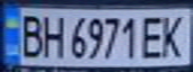1: (118, 13, 142, 60)
6: (66, 12, 87, 60)
7: (103, 13, 121, 60)
9: (84, 13, 106, 60)
B: (15, 11, 45, 58)
E: (139, 12, 169, 60)
H: (39, 11, 66, 60)
K: (157, 11, 190, 60)
